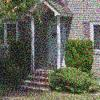stairs: (25, 66, 55, 90)
